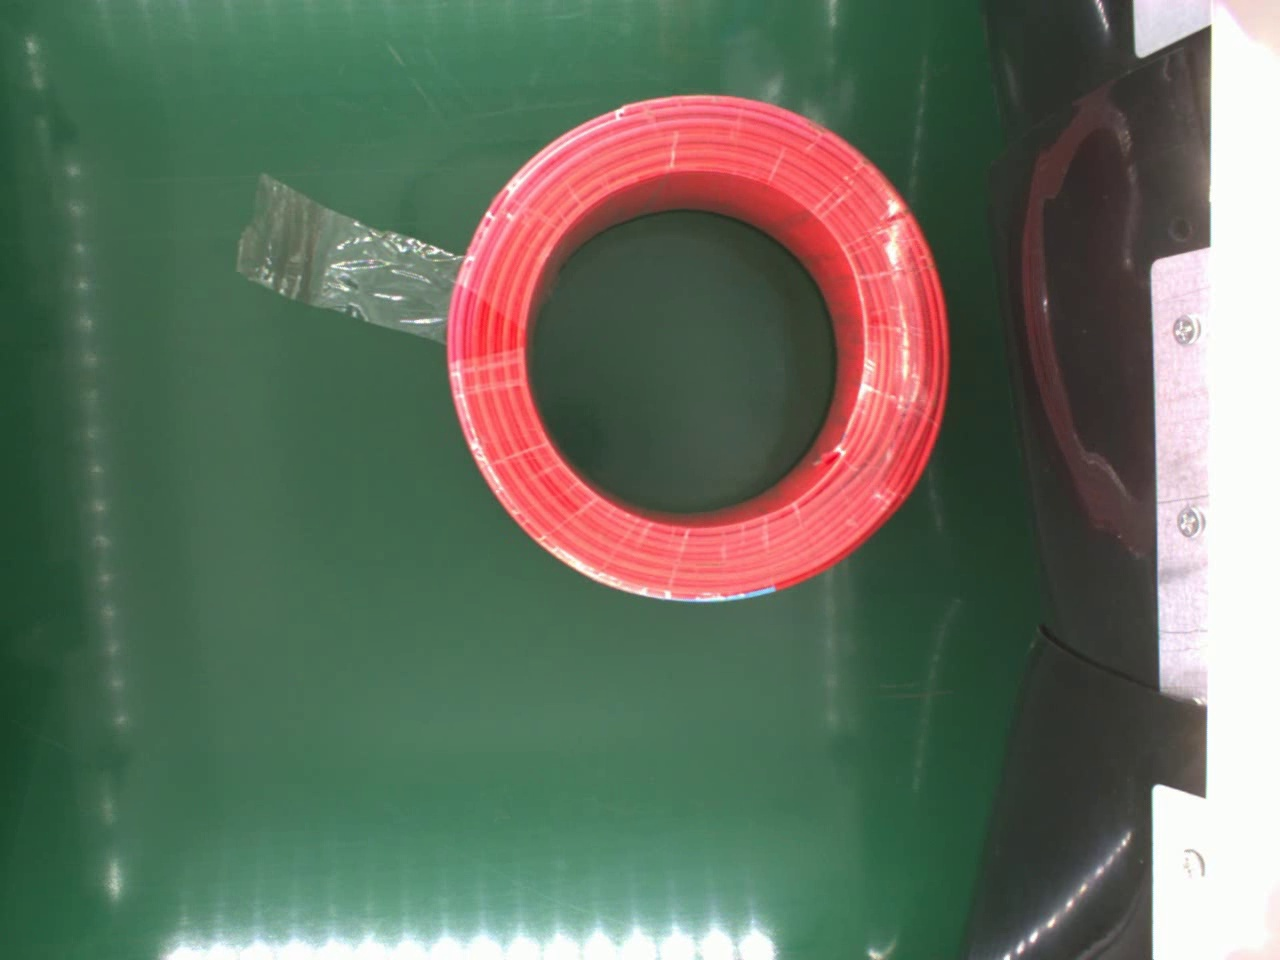red: (435, 86, 950, 607)
